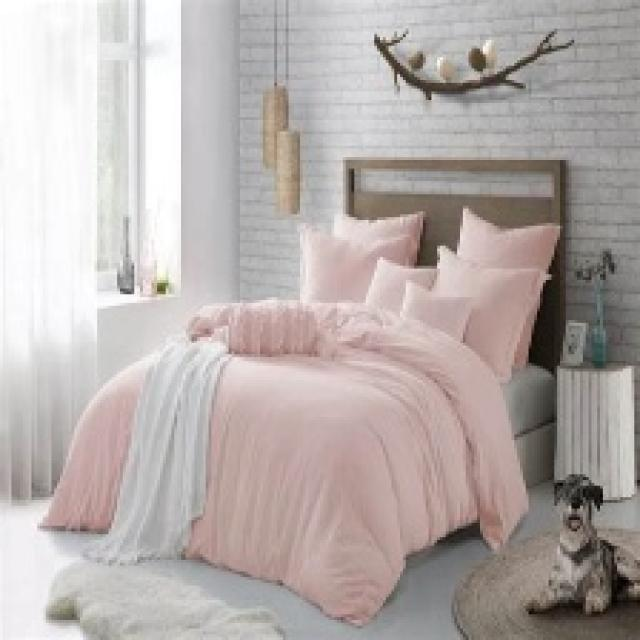Bed: (37, 154, 566, 626)
